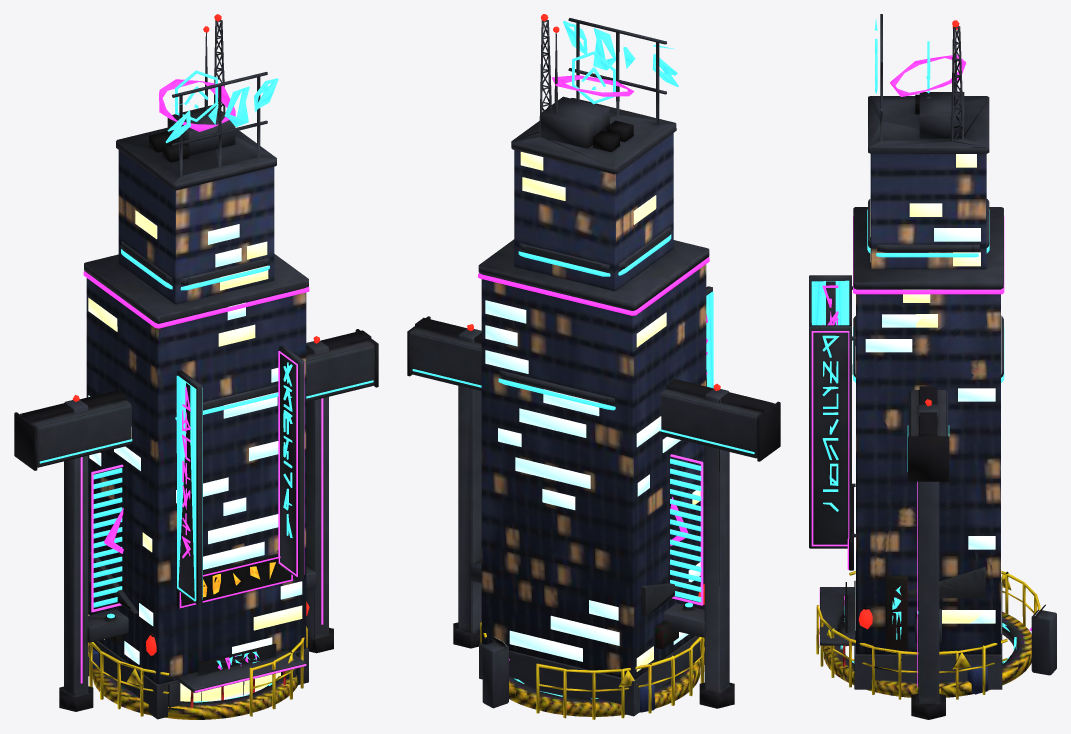
File: digital_decor_neon.glb
3 renders of one model, left to right at view 1: azimuth 30°, elevation 25°; view 2: azimuth 150°, elevation 25°; view 3: azimuth 270°, elevation 25°, orthographic. The views are drawn at different scales.
Visible parts, largest first — view 1: Tower_A, Holo, Tower_B, Monorail, PitRim, NoodleBar; view 2: Tower_A, Holo, Monorail, PitRim, Tower_B, NoodleBar; view 3: Tower_A, Tower_B, PitRim, Holo, Monorail, NoodleBar, Pylon.
Boxes of the visible parts, x1=… form: Tower_A: x1=83, y1=14, x2=309, y2=719; Holo: x1=59, y1=336, x2=333, y2=711; Tower_B: x1=121, y1=26, x2=304, y2=707; Monorail: x1=14, y1=329, x2=378, y2=470; PitRim: x1=88, y1=626, x2=307, y2=719; NoodleBar: x1=89, y1=551, x2=309, y2=718; Tower_A: x1=477, y1=14, x2=713, y2=716; Holo: x1=453, y1=324, x2=734, y2=708; Monorail: x1=407, y1=316, x2=780, y2=461; PitRim: x1=480, y1=621, x2=704, y2=719; Tower_B: x1=498, y1=26, x2=671, y2=701; NoodleBar: x1=641, y1=581, x2=704, y2=649; Tower_A: x1=809, y1=14, x2=1004, y2=689; Tower_B: x1=809, y1=26, x2=1004, y2=648; PitRim: x1=816, y1=570, x2=1056, y2=699; Holo: x1=911, y1=399, x2=945, y2=719; Monorail: x1=907, y1=386, x2=949, y2=481; NoodleBar: x1=838, y1=487, x2=985, y2=676; Pylon: x1=967, y1=665, x2=988, y2=694.
Bounding box in the file's own units: 4.43 × 7.92 × 2.73.
Materials: 9 (1 with a texture image).
